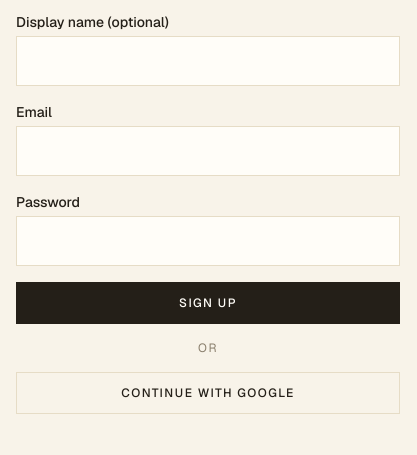
SignUpForm › shows a field error returned by the action
Type "taken@example.com" into the field with test id "sign-up-email-input" at (208, 151), box [16,126,400,176]
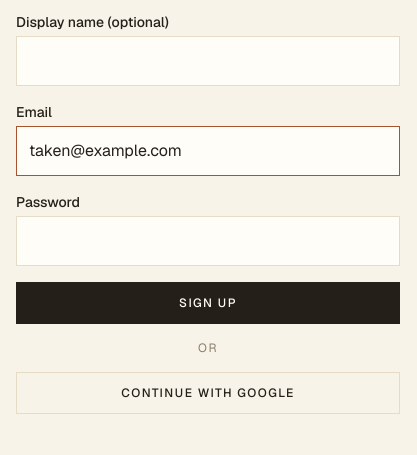
Type "password123" into the password field with test id "sign-up-password-input" at (208, 241), box [16,216,400,266]
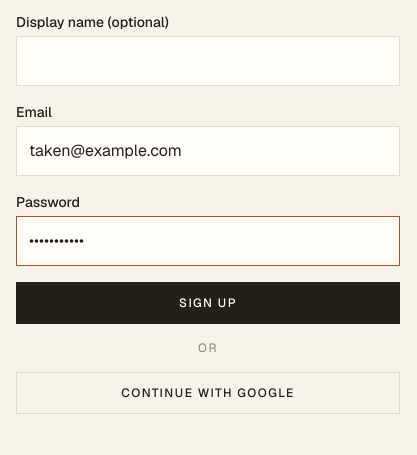
Click the button with test id "sign-up-submit-button" at (208, 303), box [16,282,400,324]
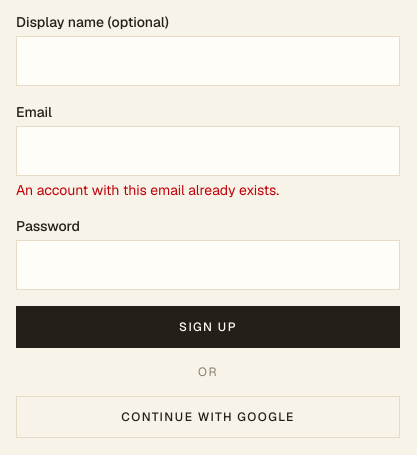
Expected: the text "An account with this email already exists." is shown, [16,181,279,199]
